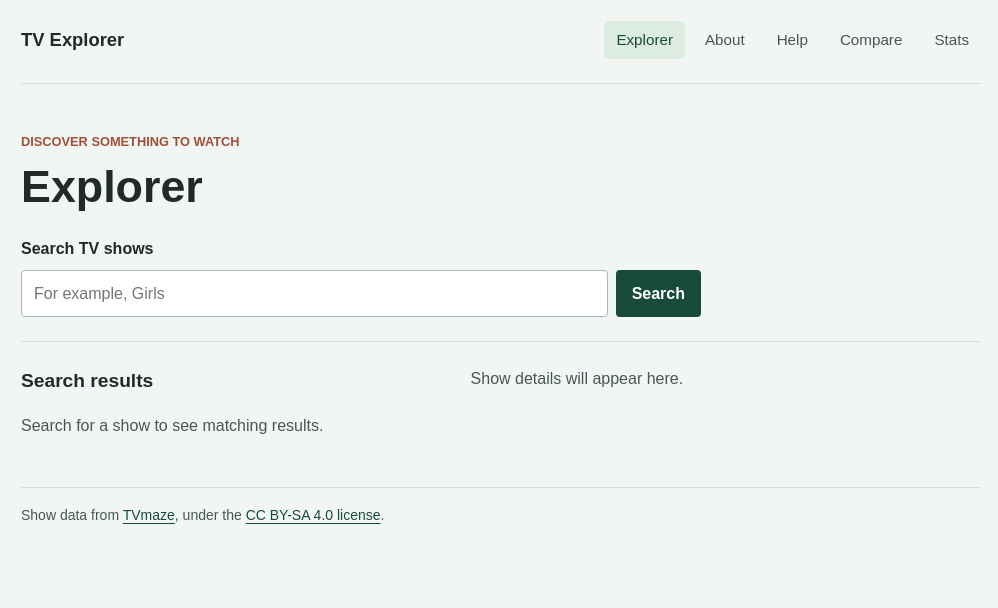
app navigation › distinguishes an empty result set from fewer than two results
Type "none" into the search field labelled "Search TV shows" at [314, 294], box [21, 270, 608, 318]
Click the button "Search" at [658, 294], box [616, 270, 701, 318]
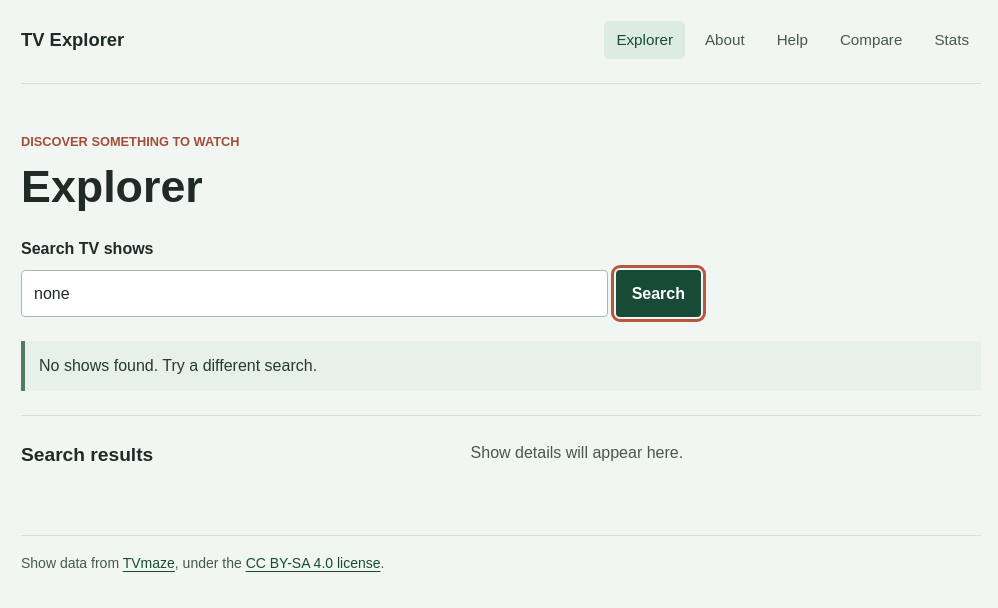
Result: the text "No shows found. Try a different search." is shown at [21, 342, 981, 391]
Click the link "Compare" at [871, 40], box [840, 31, 902, 48]
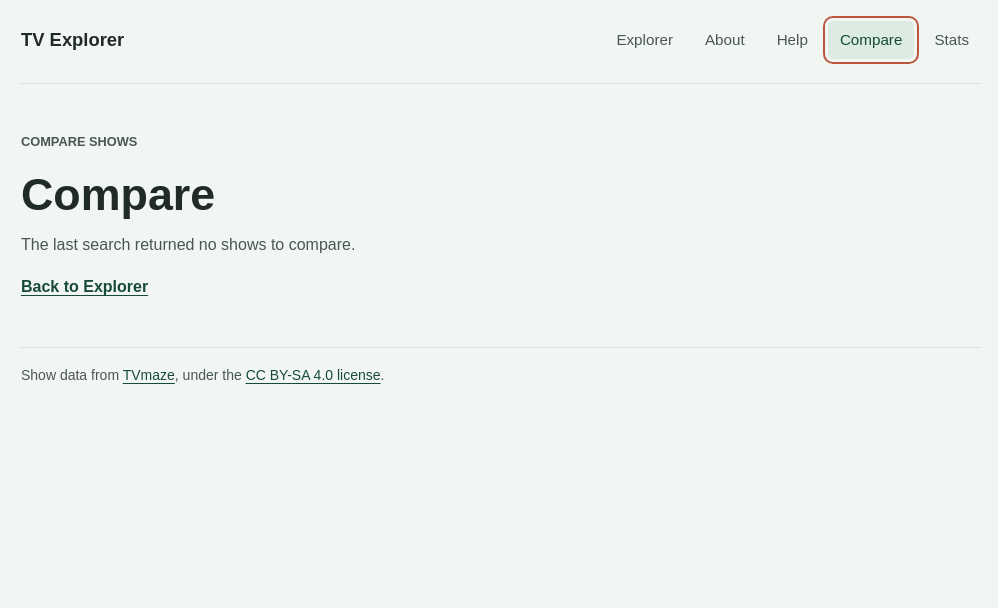
Result: the text "The last search returned no shows to compare." is shown at [21, 236, 355, 253]
Click the link "Back to Explorer" at [85, 286], box [21, 278, 148, 295]
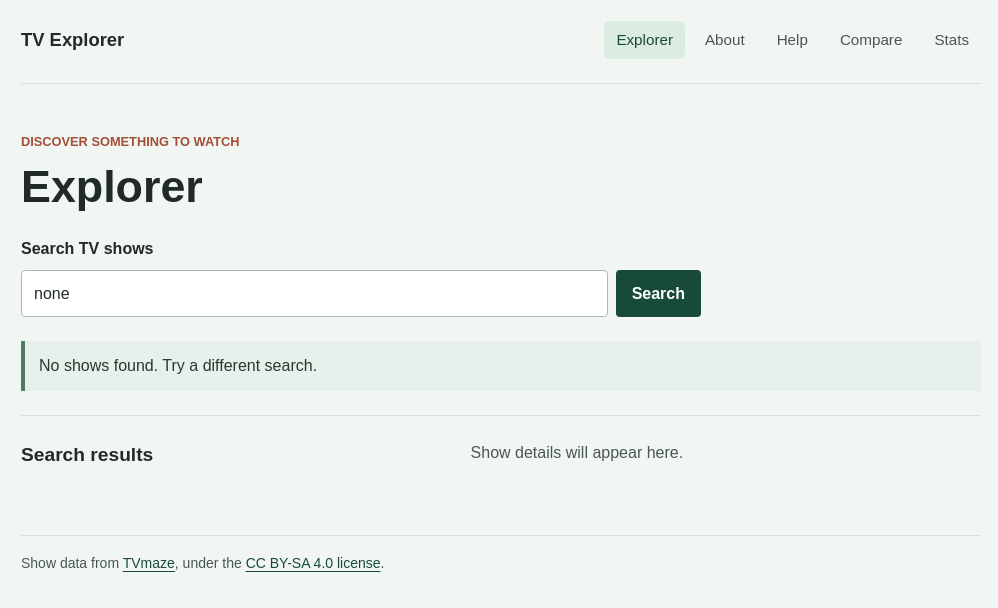
Replace the text in the search field labelled "Search TV shows" with "one" at [314, 294], box [21, 270, 608, 318]
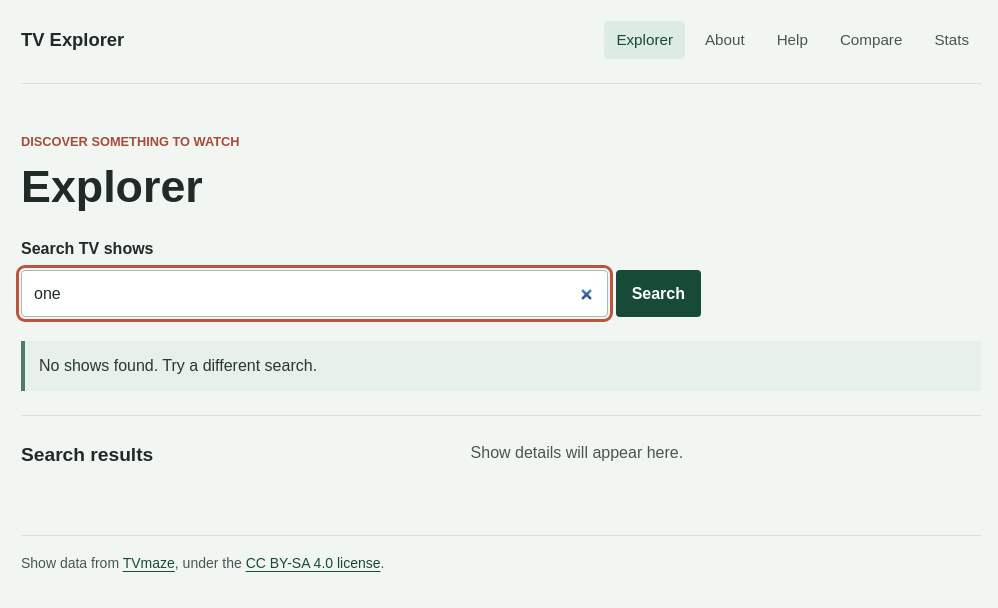
Click the button "Search" at [658, 294], box [616, 270, 701, 318]
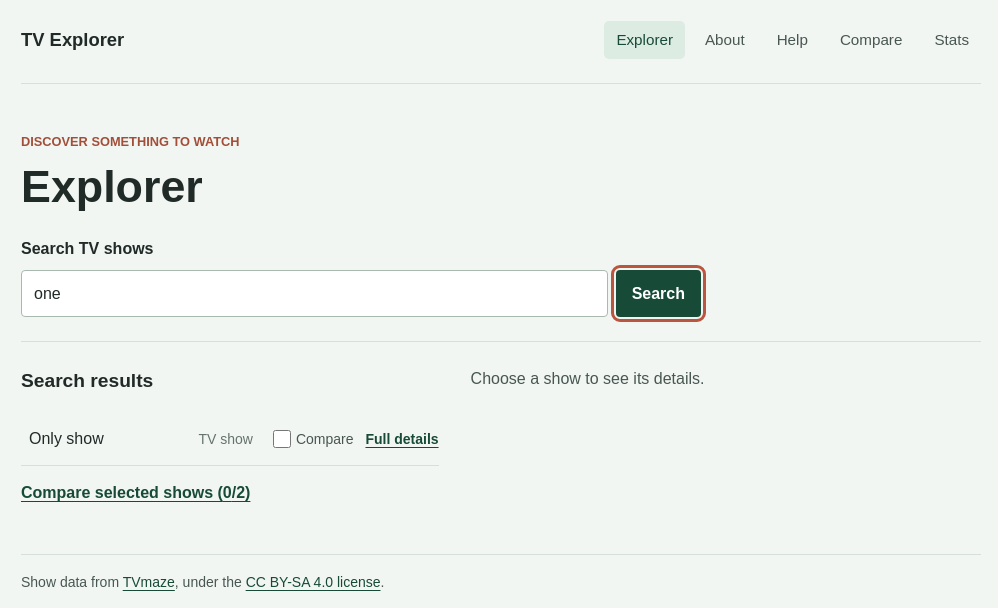
Result: the button "Only show TV show" is shown at [21, 413, 261, 465]
Click the link "Compare" at [871, 40], box [840, 31, 902, 48]
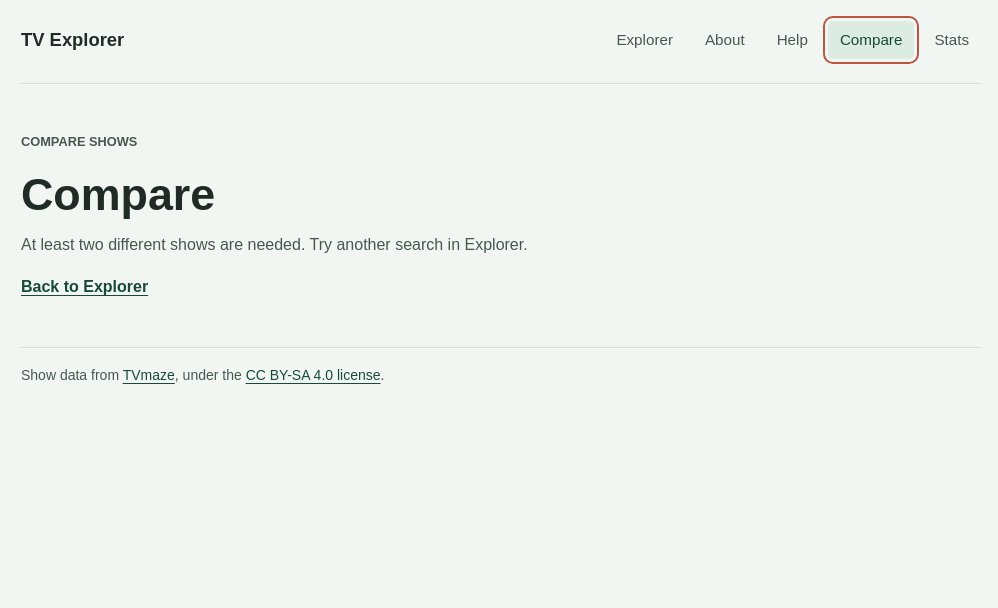
Result: the text "At least two different shows are needed" is shown at [21, 236, 528, 253]
